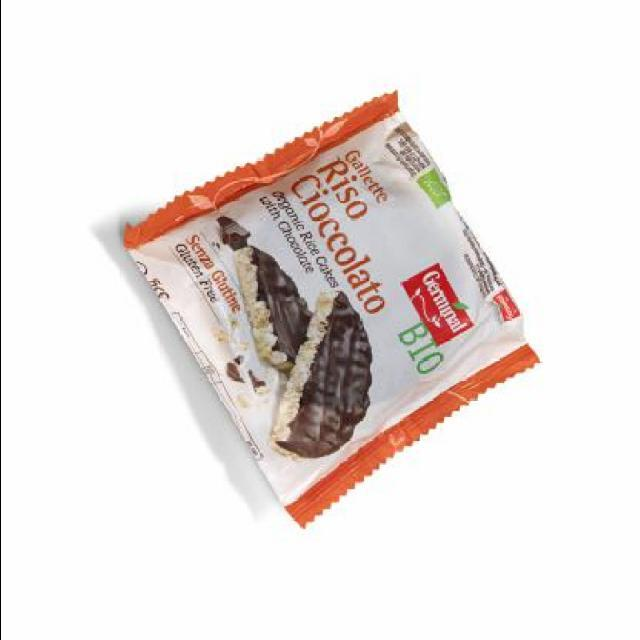Gallette di riso: (114, 88, 546, 532)
